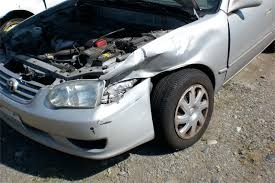Dent: (97, 32, 208, 99)
